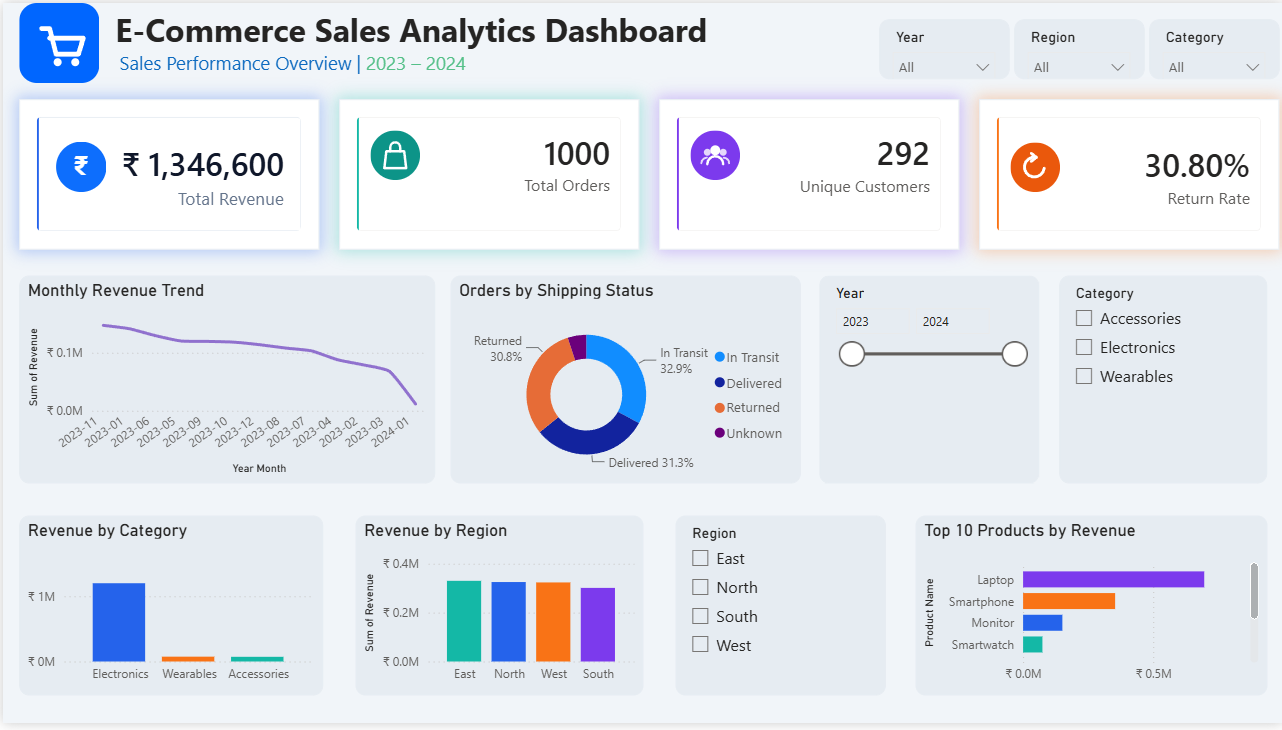

What the dashboard file says about the page in this screenshot:
{"tool":"powerbi","page":{"name":"Page 1","canvas":[1280,720],"ordinal":0},"visuals":[{"type":"cardVisual","fields":{"Data":["ecommerce_analytics ecommerce_sales_final.Total Orders"]},"box":[336,96,300,150],"z":1000},{"type":"cardVisual","fields":{"Data":["ecommerce_analytics ecommerce_sales_final.Unique Customers"]},"box":[656,96,300,150],"z":2000},{"type":"cardVisual","fields":{"Data":["ecommerce_analytics ecommerce_sales_final.Return Rate"]},"box":[976,96,300,150],"z":3000},{"type":"lineChart","title":"Monthly Revenue Trend","fields":{"Category":["ecommerce_analytics ecommerce_sales_final.Year Month"],"Y":["Sum(ecommerce_analytics ecommerce_sales_final.Revenue)"]},"box":[16,272,416,208],"z":4000},{"type":"lineClusteredColumnComboChart","title":"Revenue by Category","fields":{"Category":["ecommerce_analytics ecommerce_sales_final.Category"],"Y":["Sum(ecommerce_analytics ecommerce_sales_final.Revenue)"]},"box":[16,512,304,180],"z":5000},{"type":"donutChart","title":"Orders by Shipping Status","fields":{"Category":["ecommerce_analytics ecommerce_sales_final.Shipping Status"],"Y":["CountNonNull(ecommerce_analytics ecommerce_sales_final.Customer ID)"]},"box":[448,272,350,208],"z":6000},{"type":"lineClusteredColumnComboChart","title":"Revenue by Region","fields":{"Category":["ecommerce_analytics ecommerce_sales_final.Region"],"Y":["Sum(ecommerce_analytics ecommerce_sales_final.Revenue)"]},"box":[352,512,288,180],"z":7000},{"type":"slicer","fields":{"Values":["ecommerce_analytics ecommerce_sales_final.Year"]},"box":[816,272,220,208],"z":8000},{"type":"slicer","fields":{"Values":["ecommerce_analytics ecommerce_sales_final.Region"]},"box":[672,512,210,180],"z":9000},{"type":"slicer","fields":{"Values":["ecommerce_analytics ecommerce_sales_final.Category"]},"box":[1056,272,208,208],"z":10000},{"type":"clusteredBarChart","title":"Top 10 Products by Revenue","fields":{"Category":["ecommerce_analytics ecommerce_sales_final.Product Name"],"Y":["Sum(ecommerce_analytics ecommerce_sales_final.Revenue)"]},"box":[912,512,352,180],"z":11000},{"type":"textbox","box":[96,0,624,96],"z":12000},{"type":"image","box":[16,0,80,80],"z":13000},{"type":"slicer","fields":{"Values":["ecommerce_analytics ecommerce_sales_final.Year"]},"box":[876,16,130,60],"z":14000},{"type":"slicer","fields":{"Values":["ecommerce_analytics ecommerce_sales_final.Region"]},"box":[1011,16,130,60],"z":15000},{"type":"slicer","fields":{"Values":["ecommerce_analytics ecommerce_sales_final.Category"]},"box":[1146,16,130,60],"z":16000},{"type":"cardVisual","fields":{"Data":["Sum(ecommerce_analytics ecommerce_sales_final.Revenue)"]},"box":[16,96,300,150],"z":17000}]}

Visuals, with their boxes in screenshot pixels (x1, y1, x2, y2), scaled from the page's 1280x720 canvas onto the 1282x730 screenshot:
cardVisual - ecommerce_analytics ecommerce_sales_final.Total Orders: (337, 97, 637, 249)
cardVisual - ecommerce_analytics ecommerce_sales_final.Unique Customers: (657, 97, 957, 249)
cardVisual - ecommerce_analytics ecommerce_sales_final.Return Rate: (978, 97, 1278, 249)
"Monthly Revenue Trend" lineChart: (16, 276, 433, 487)
"Revenue by Category" lineClusteredColumnComboChart: (16, 519, 320, 702)
"Orders by Shipping Status" donutChart: (449, 276, 799, 487)
"Revenue by Region" lineClusteredColumnComboChart: (353, 519, 641, 702)
slicer - ecommerce_analytics ecommerce_sales_final.Year: (817, 276, 1038, 487)
slicer - ecommerce_analytics ecommerce_sales_final.Region: (673, 519, 883, 702)
slicer - ecommerce_analytics ecommerce_sales_final.Category: (1058, 276, 1266, 487)
"Top 10 Products by Revenue" clusteredBarChart: (913, 519, 1266, 702)
textbox: (96, 0, 721, 97)
image: (16, 0, 96, 81)
slicer - ecommerce_analytics ecommerce_sales_final.Year: (877, 16, 1008, 77)
slicer - ecommerce_analytics ecommerce_sales_final.Region: (1013, 16, 1143, 77)
slicer - ecommerce_analytics ecommerce_sales_final.Category: (1148, 16, 1278, 77)
cardVisual - Sum(ecommerce_analytics ecommerce_sales_final.Revenue): (16, 97, 316, 249)
